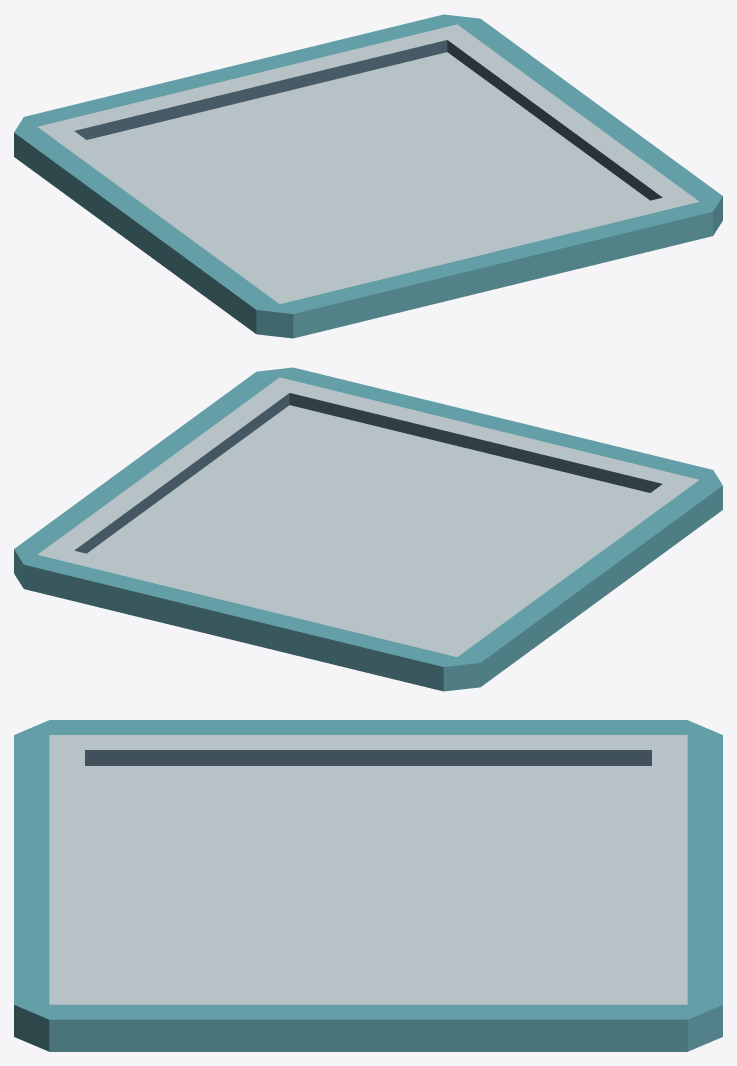
File: platform_large.glb
The picture shows the model from 3 angles, top to bottom: view 1: azimuth 30°, elevation 25°; view 2: azimuth 150°, elevation 25°; view 3: azimuth 270°, elevation 25°; orthographic projection. The views are drawn at different scales.
Visible parts, largest first — view 1: platform_large; view 2: platform_large; view 3: platform_large.
Boxes of the visible parts, x1=… form: platform_large: x1=14, y1=14, x2=722, y2=338; platform_large: x1=14, y1=367, x2=722, y2=691; platform_large: x1=14, y1=720, x2=722, y2=1051.
Size of the model in its own units: 2 by 0.1 by 2.
